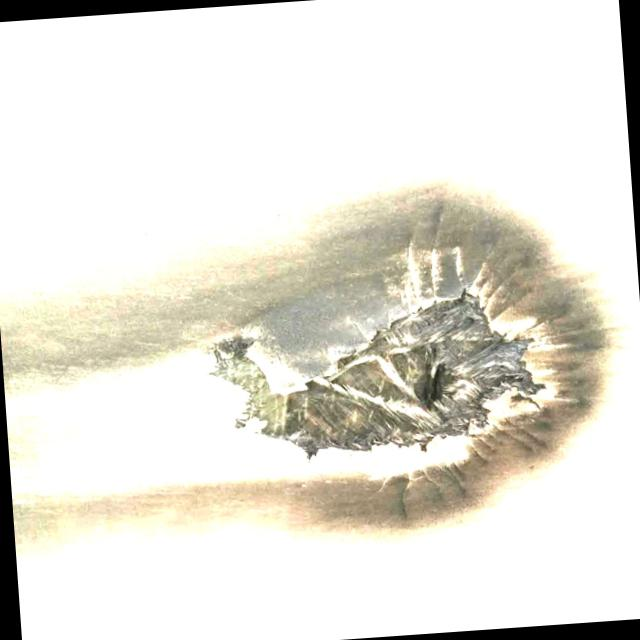crack: (90, 198, 596, 542)
